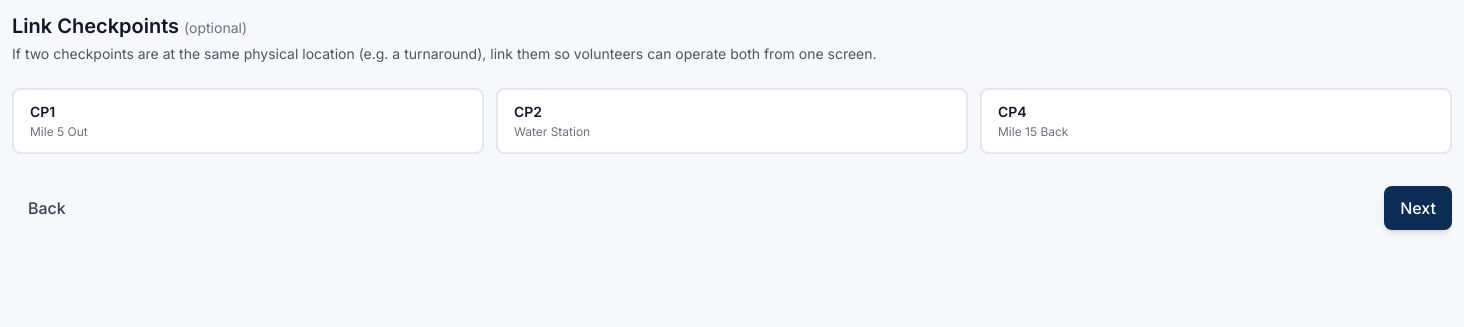
LinkCheckpointsStep › unlinks a pair when the unlink button is clicked
The image size is (1464, 327).
Click the button with test id "cp-tile-1" at {"x": 59, "y": 132}, box [12,88,484,154]
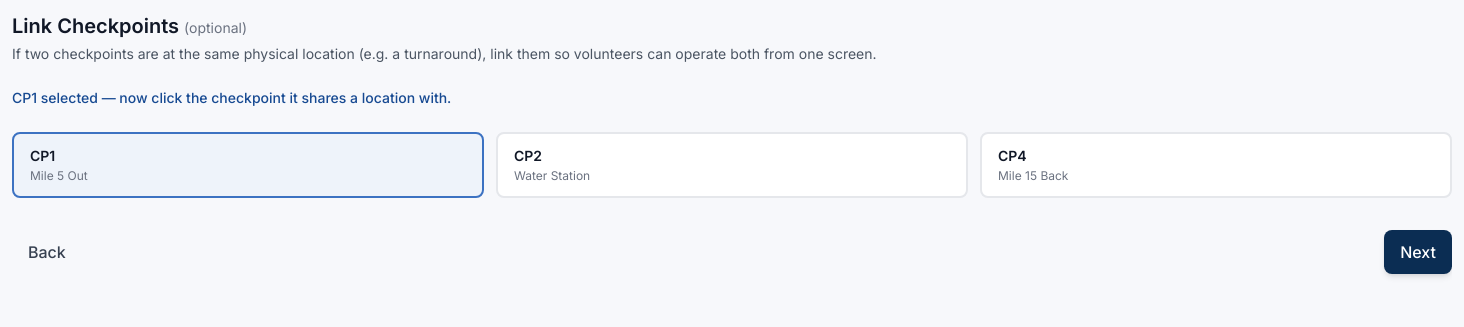
Click the button with test id "cp-tile-4" at {"x": 1033, "y": 176}, box [980,132,1452,198]
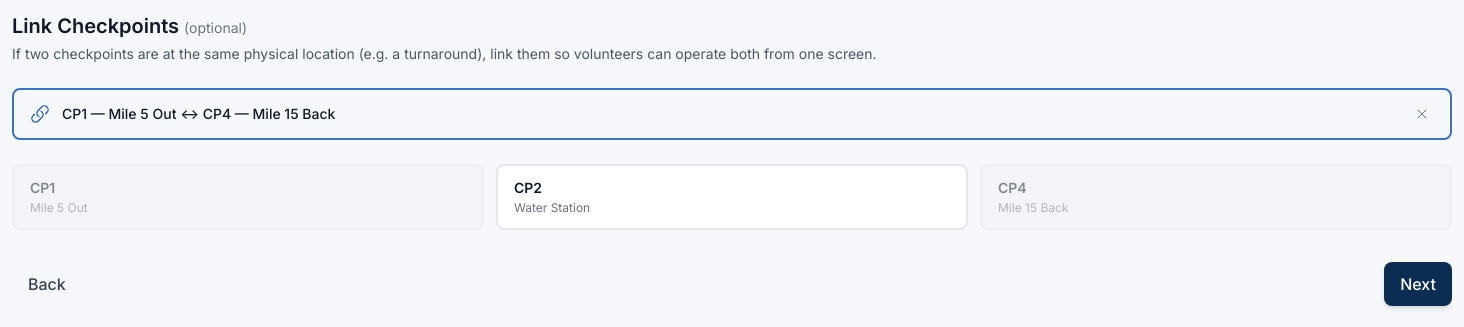
Click the button with test id "unlink-1-4" at {"x": 1422, "y": 114}, box [1410,102,1434,126]
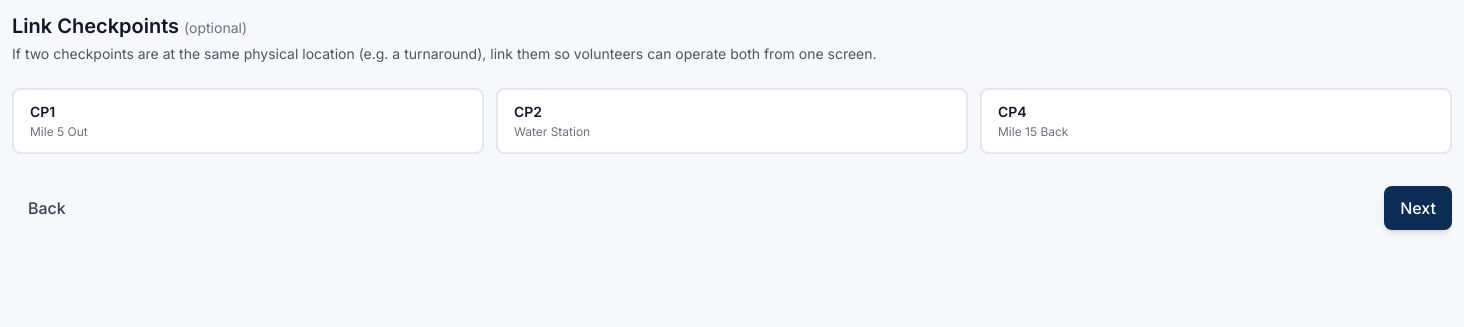
Check: the button with test id "unlink-1-4" is gone
